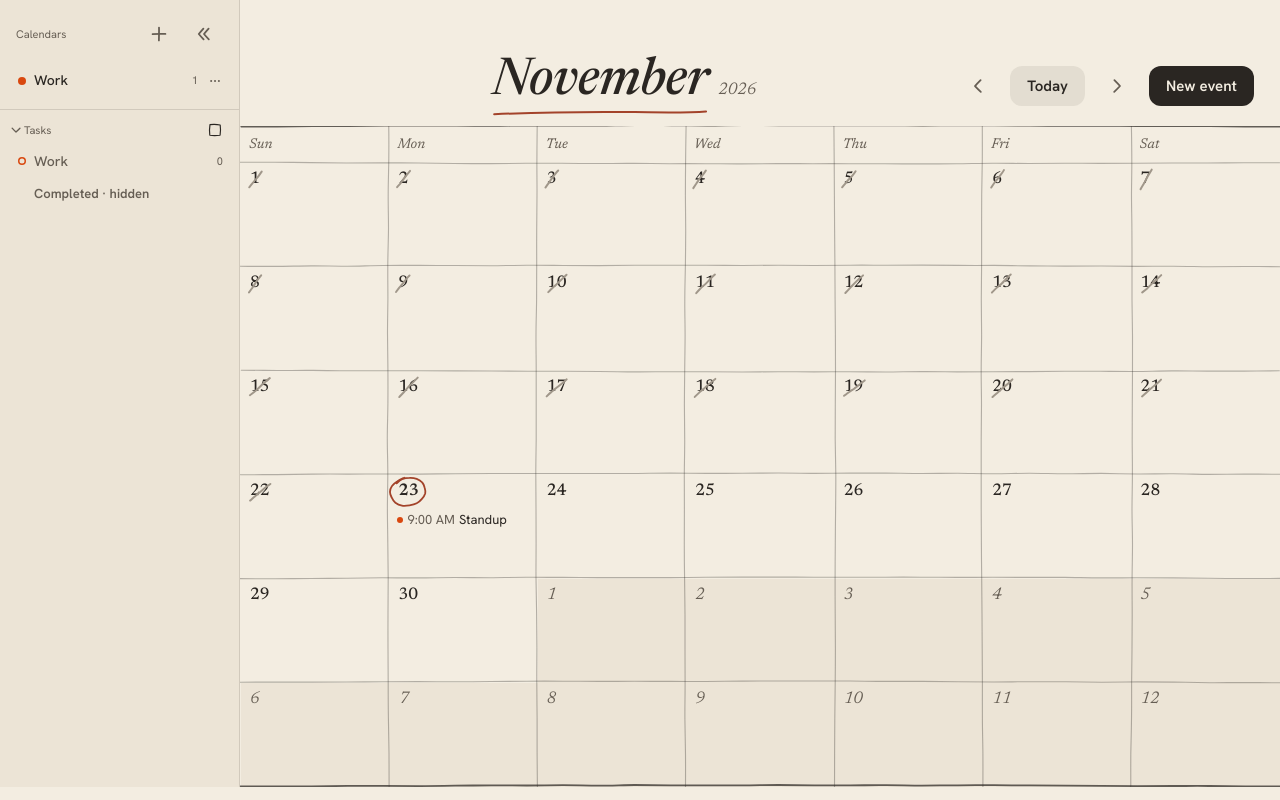
aug19 stage 4b — chip, dot, agenda and popover identity › still removes the only copy of an event that lives in one calendar
Click the button with class "cal-ev" at [457, 520], box [407,511,507,528]
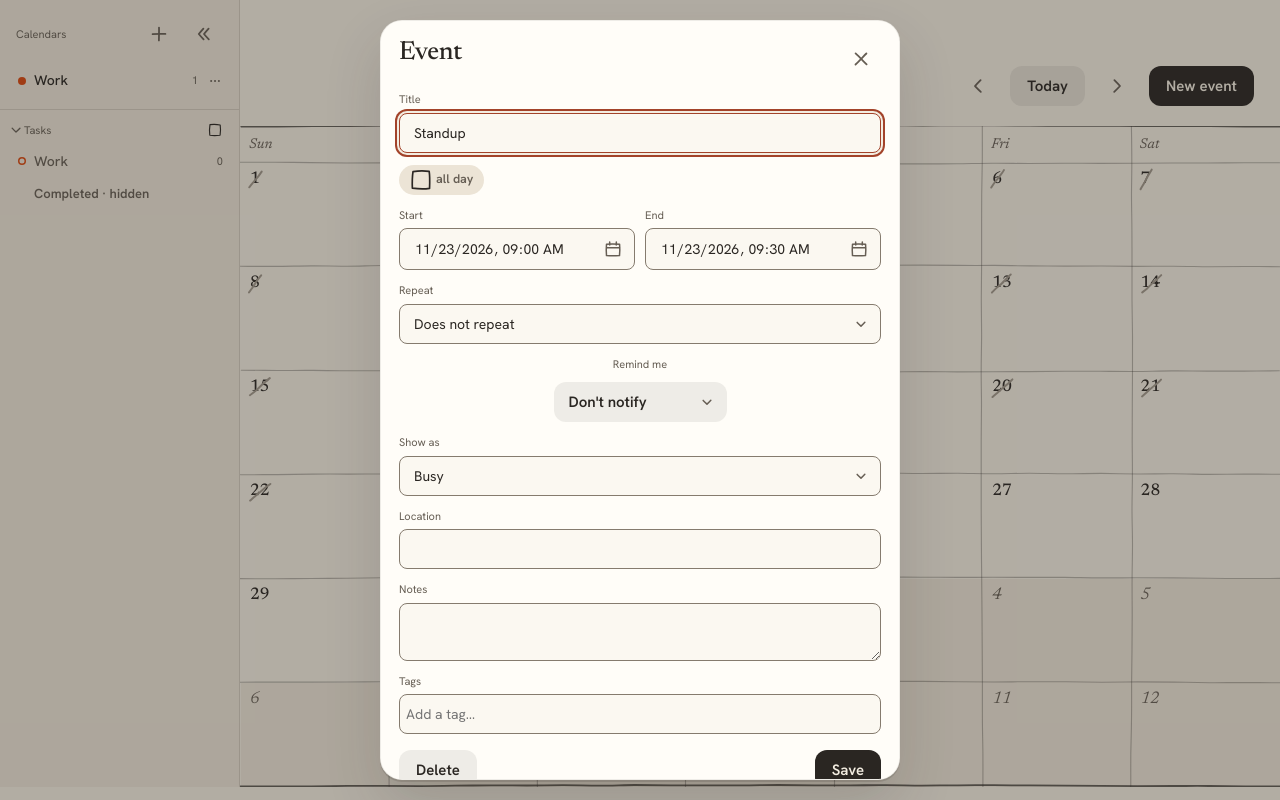
Click the button "Delete" at [438, 770], box [399,750,477,790]
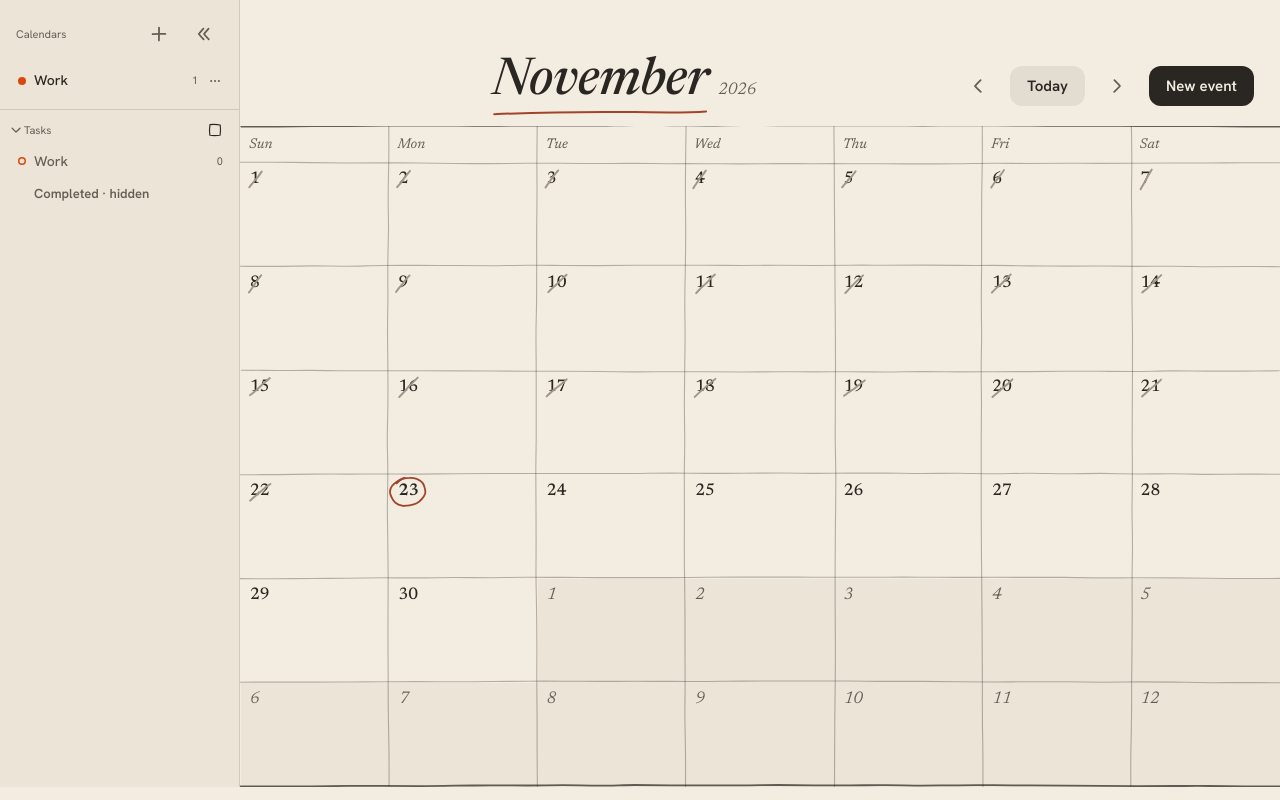
Expected: no buttons with class "cal-ev" are shown
